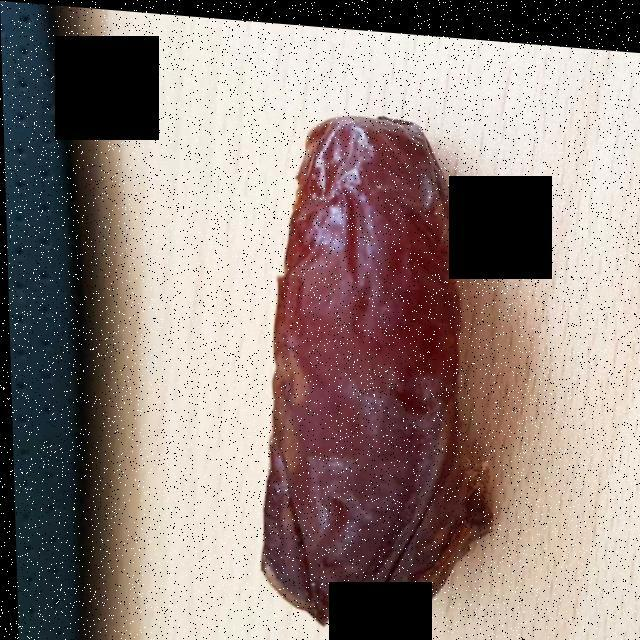dates: (261, 113, 484, 617)
